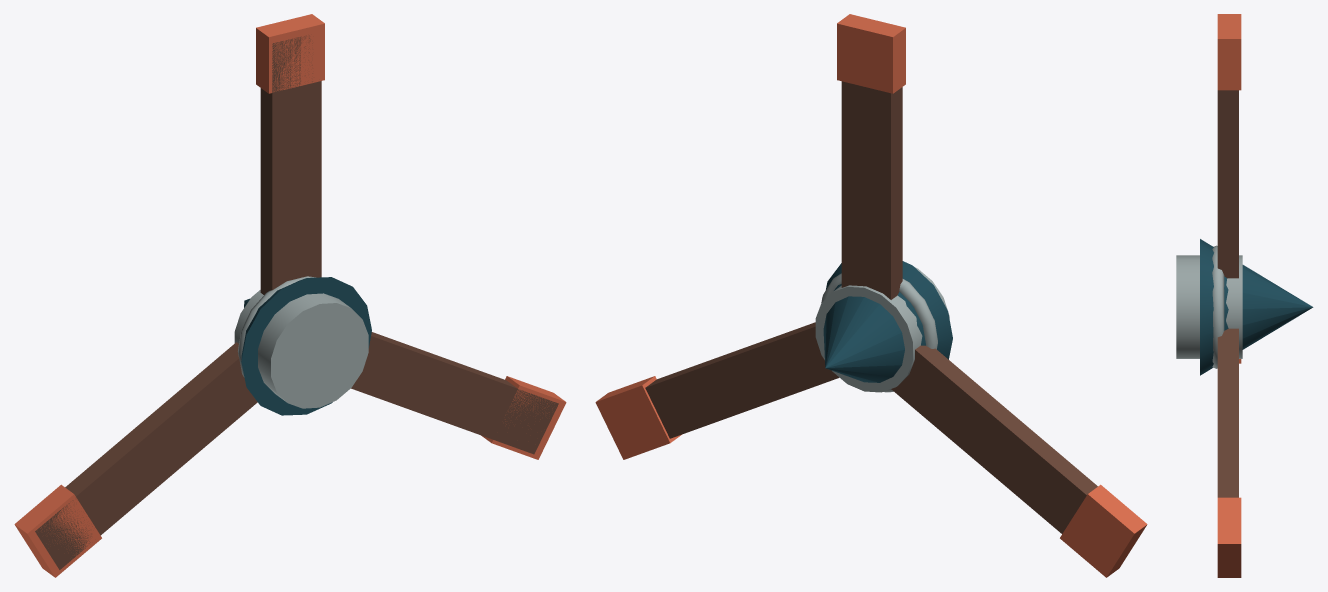
File: funky-toy-plane-propeller-B6MzlpIR.glb
3 views of the same model, side by side, from view 1: azimuth 30°, elevation 25°; view 2: azimuth 150°, elevation 25°; view 3: azimuth 270°, elevation 25° (orthographic). The views are drawn at different scales.
Parts seen in each view (by area): view 1: ArcGIS low-poly three-blade toy plane propeller; view 2: ArcGIS low-poly three-blade toy plane propeller; view 3: ArcGIS low-poly three-blade toy plane propeller.
Boxes of the visible parts, x1,y1,x2,y2 form: ArcGIS low-poly three-blade toy plane propeller: (14,14,566,577); ArcGIS low-poly three-blade toy plane propeller: (595,14,1147,577); ArcGIS low-poly three-blade toy plane propeller: (1176,14,1313,577).
Size of the model in its own units: 1.72 by 1.49 by 0.4176.
